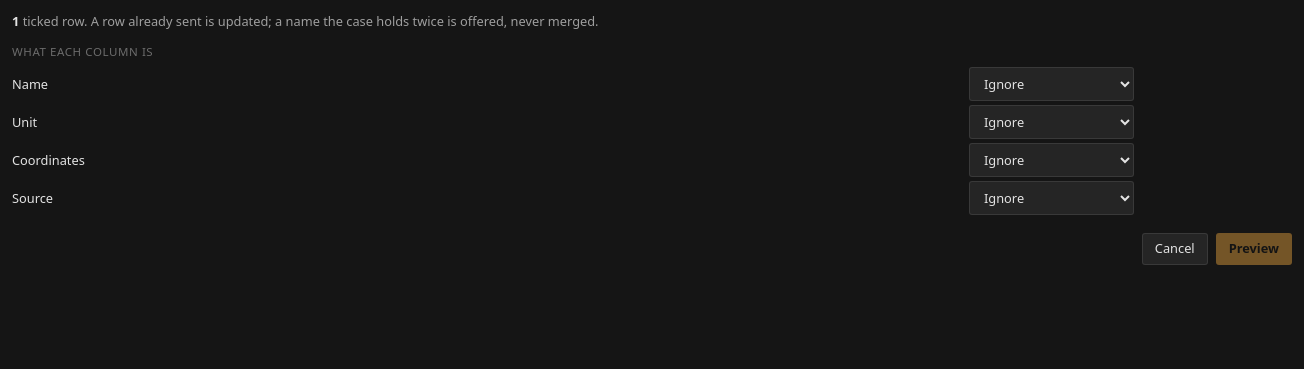
a whole sheet into the case, in one declaration › shows a row whose end is missing with its reason
Select "One entity per value" in the dropdown named "What Unit is" at (1052, 122), box [969, 106, 1134, 140]
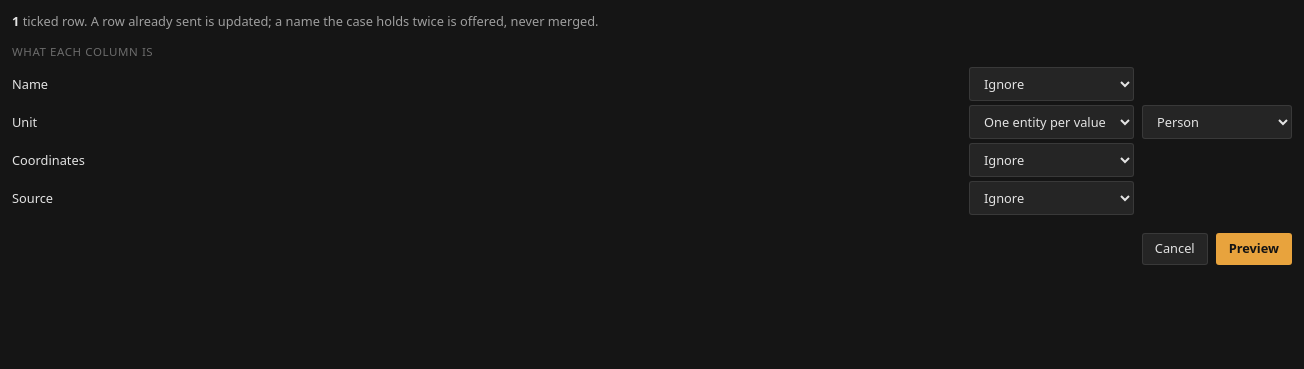
Click the button "Preview".
click(1254, 249)  # box [1216, 234, 1292, 265]
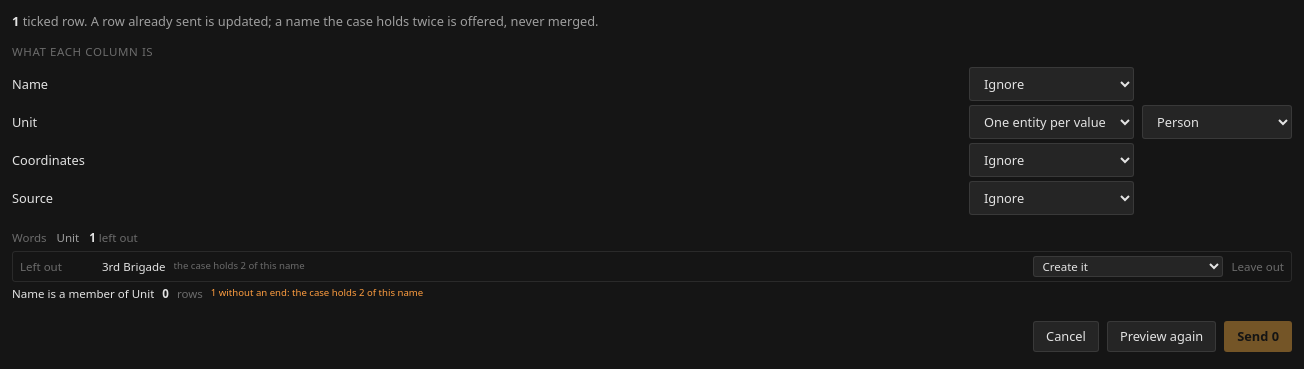
Now the text "the case holds 2 of this name" is shown, box [174, 259, 305, 273]
Now the text "1 without an end" is shown, box [211, 286, 423, 299]
Now the dropdown named "Attach 3rd Brigade to something the case holds" is shown, box [1033, 256, 1223, 277]
